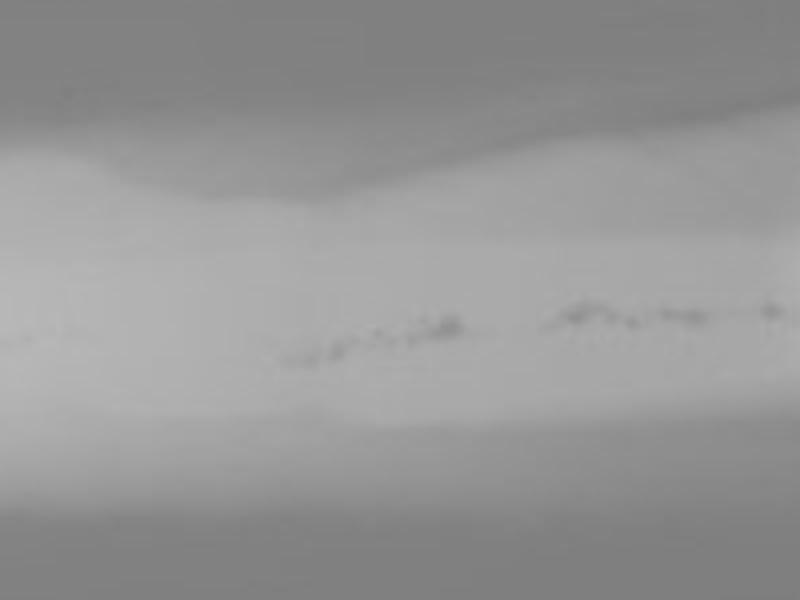defect: (657, 302, 712, 325), (423, 312, 461, 340), (556, 298, 601, 321), (280, 347, 317, 372), (368, 324, 398, 349), (329, 337, 355, 361), (539, 313, 567, 334), (764, 298, 783, 317), (604, 307, 622, 326), (622, 312, 639, 330), (406, 328, 420, 349)
